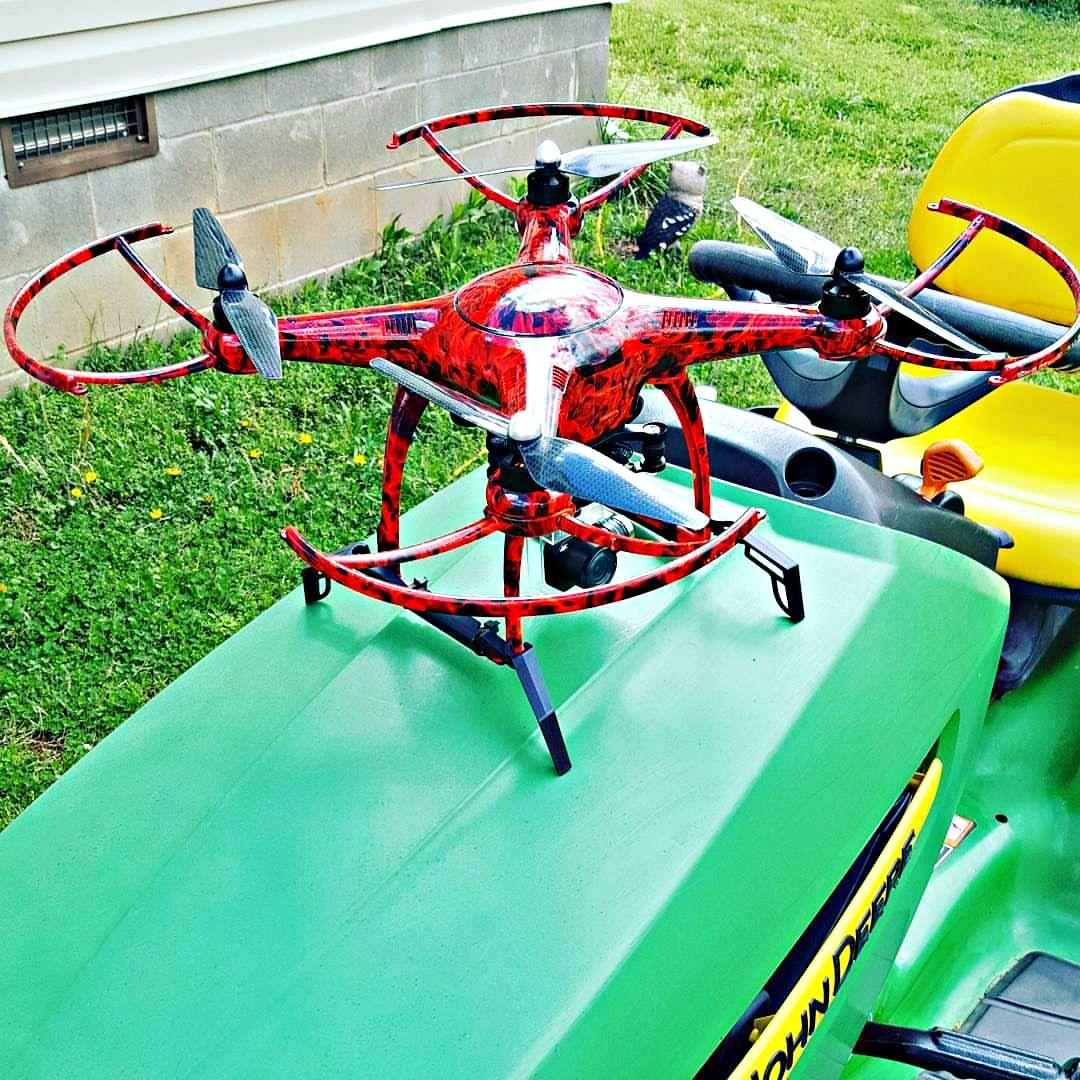drone: (30, 117, 1080, 708)
